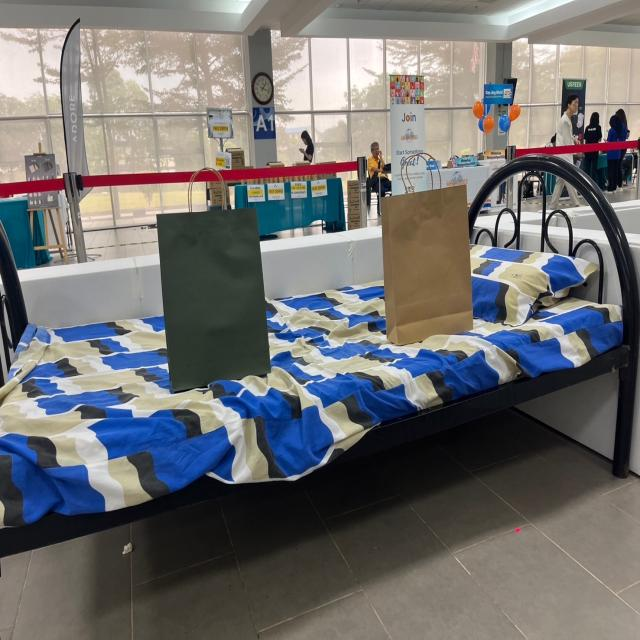bag: (169, 189, 269, 379), (379, 174, 468, 339)
